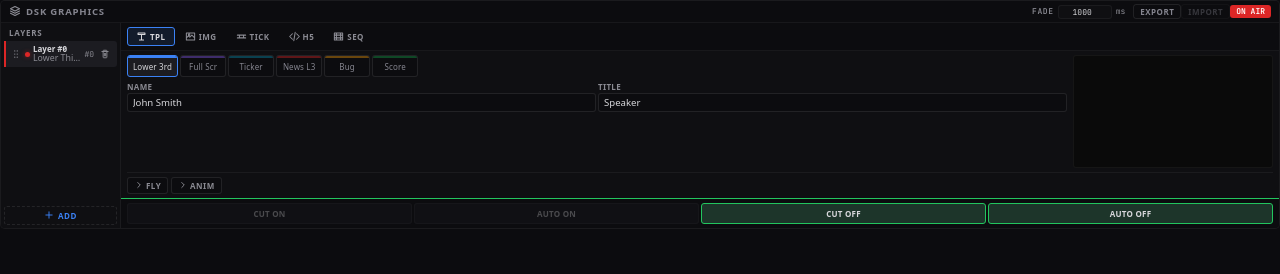
it: GraphicsPanel › should show animation controls after clicking ANIM disclosure
The image size is (1280, 274).
Click the button with class "disclosure" showing "ANIM" at (196, 185), box [171,176,222,194]
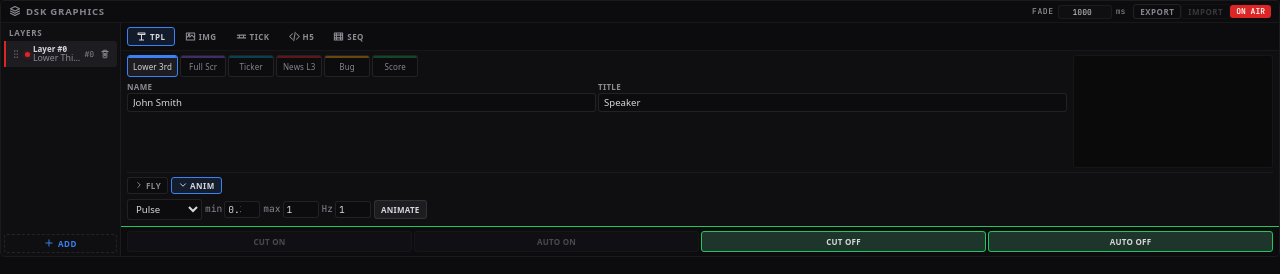
expect the button with class "anim-start" reads "ANIMATE": met, box [374,200,426,218]
expect the button with class "anim-start" is enabled: met, box [374,200,426,218]
